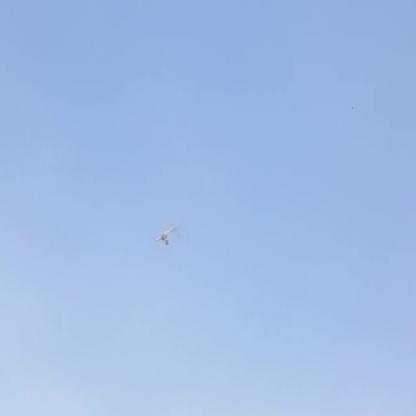drone: (150, 213, 180, 253)
